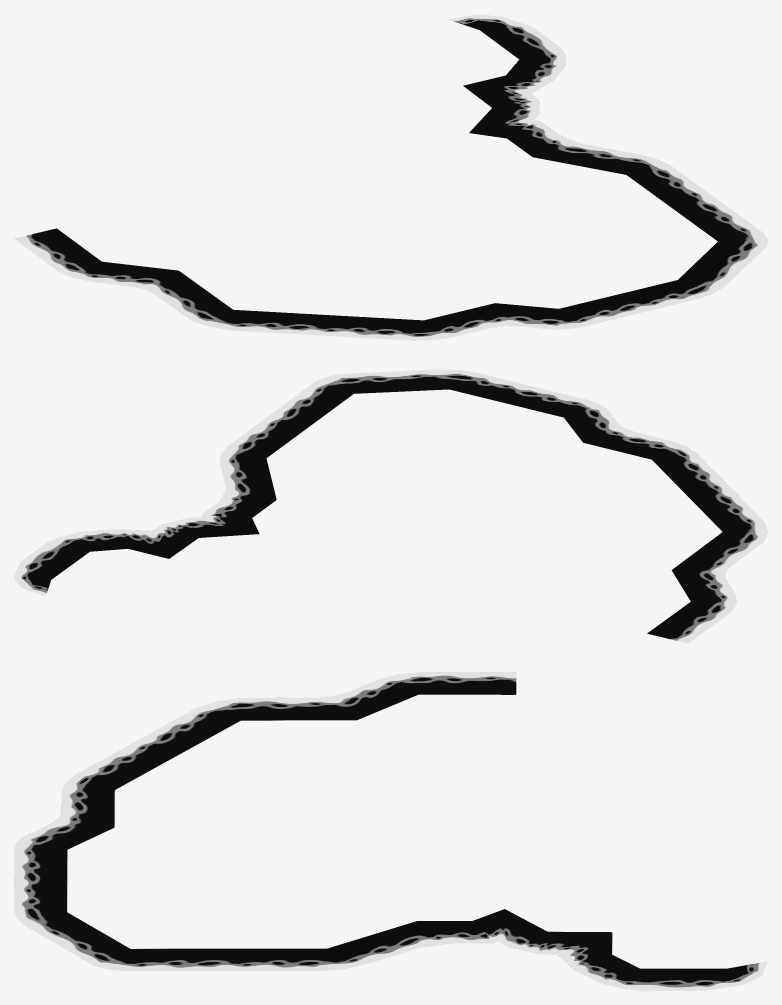
Rendered from waterEdge.fbx.
The picture shows the model from 3 angles, top to bottom: view 1: azimuth 30°, elevation 25°; view 2: azimuth 150°, elevation 25°; view 3: azimuth 270°, elevation 25°; orthographic projection. The views are drawn at different scales.
Parts seen in each view (by area): view 1: waterEdge_geo; view 2: waterEdge_geo; view 3: waterEdge_geo.
Part boxes in pixels (x1,y1,x2,y2): waterEdge_geo: (14,14,767,340); waterEdge_geo: (14,369,767,643); waterEdge_geo: (14,672,767,990).
Size of the model in its own units: 476 by 0.1346 by 475.
Materials: 1 (1 with a texture image).
